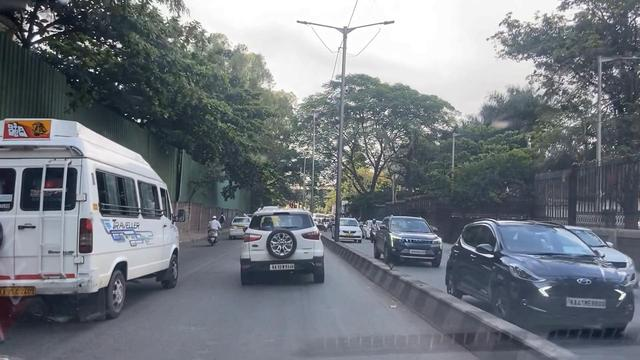HMV: (1, 123, 181, 314)
LMV: (242, 211, 323, 285)
